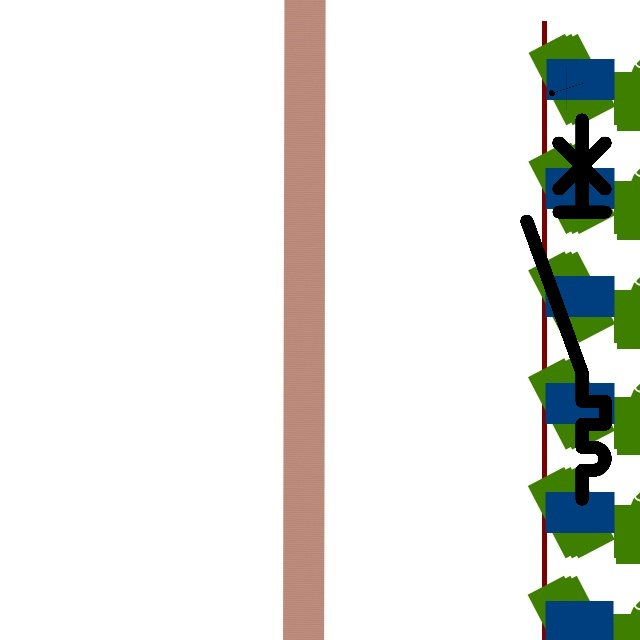interruptor_termomagnetico: (517, 110, 615, 509)
